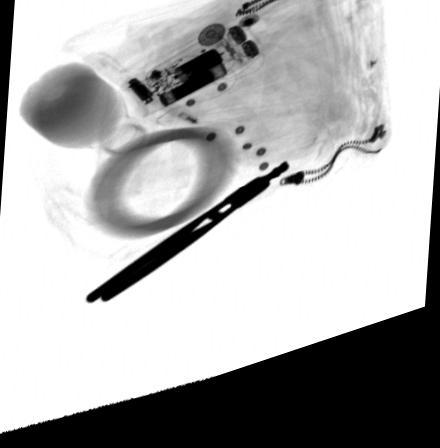Pliers: (84, 176, 292, 311)
